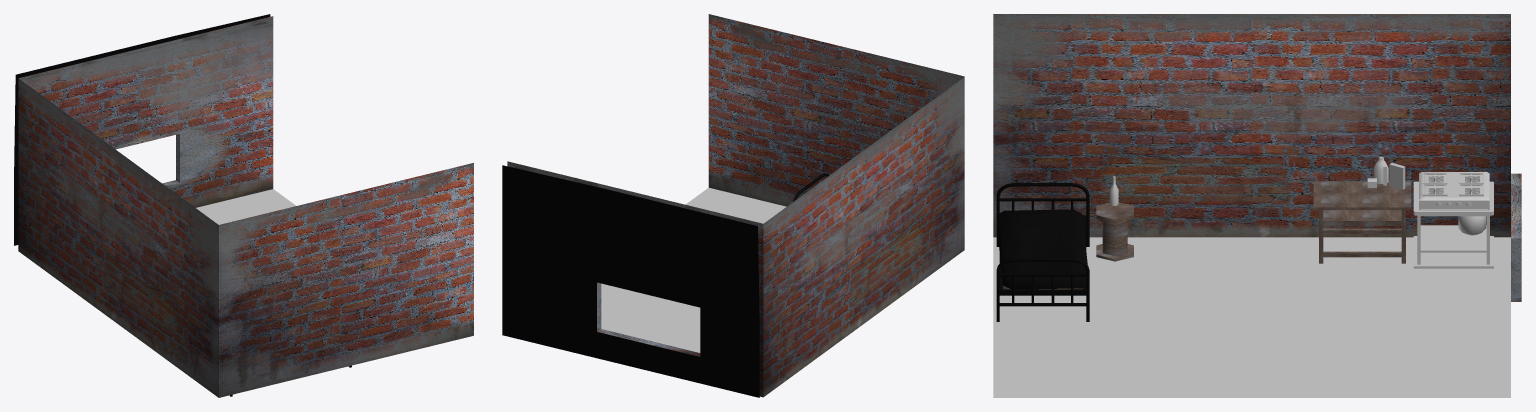
File: house.FBX
3 views of the same model, side by side, from view 1: azimuth 30°, elevation 25°; view 2: azimuth 150°, elevation 25°; view 3: azimuth 270°, elevation 25° (orthographic). The views are drawn at different scales.
Visible parts, largest first — view 1: walls, floor; view 2: walls, floor; view 3: walls, floor, bed, stove, tablekitchen, table, stuff.
Boxes of the visible parts, x1,y1,x2,y2 form: walls: (14, 14, 473, 397); floor: (196, 189, 295, 224); walls: (502, 14, 964, 397); floor: (601, 187, 786, 352); walls: (993, 14, 1521, 301); floor: (993, 237, 1510, 397); bed: (996, 183, 1089, 321); stove: (1413, 172, 1493, 268); tablekitchen: (1313, 181, 1411, 263); table: (1096, 202, 1133, 261); stuff: (1367, 157, 1405, 189).
Size of the model in its own units: 173 by 113 by 239.
